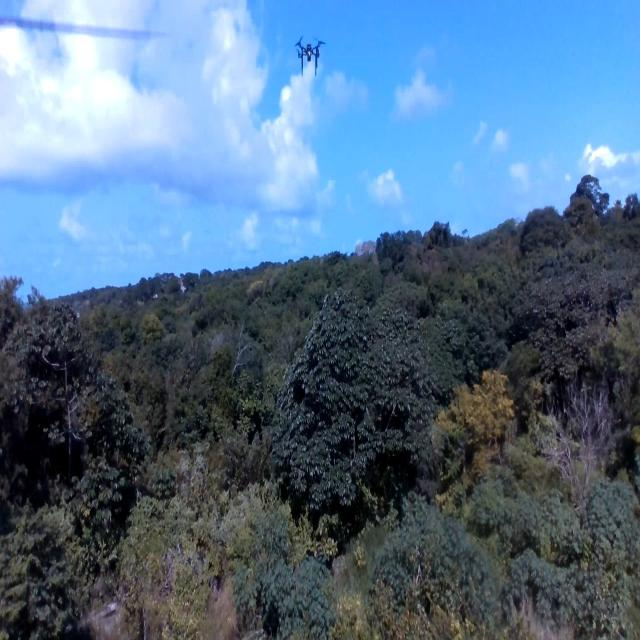-uav-: (285, 28, 329, 80)
